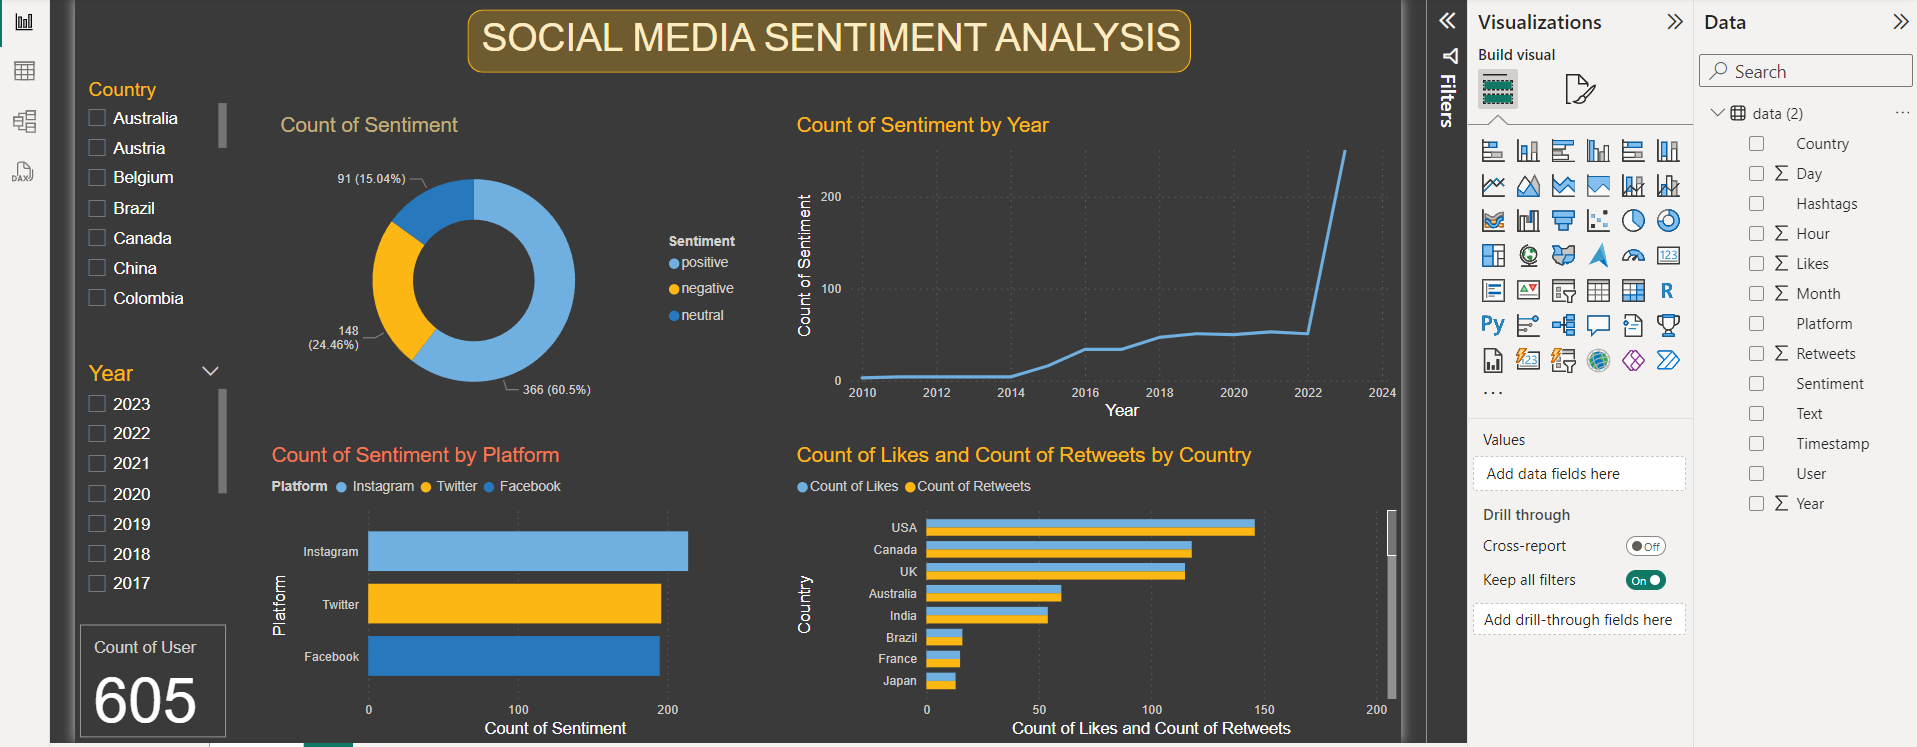

The dashboard page shown, as its layout file describes it:
{"tool":"powerbi","page":{"name":"Page 1","canvas":[1280,720],"ordinal":0},"visuals":[{"type":"textbox","box":[387.6,13.5,698.2,59.9],"z":0},{"type":"shape","box":[379.1,12.2,698.2,61.1],"z":1000},{"type":"donutChart","title":"Count of Sentiment","fields":{"Category":["data (2).Sentiment"],"Y":["CountNonNull(data (2).Sentiment)"]},"box":[193.2,112.5,467.1,300.8],"z":2000},{"type":"lineChart","fields":{"Category":["data (2).Year"],"Y":["CountNonNull(data (2).Sentiment)"]},"box":[690.9,112.5,589.4,300.8],"z":3000},{"type":"barChart","title":"Count of Sentiment by Platform","fields":{"Category":["data (2).Platform"],"Series":["data (2).Platform"],"Y":["CountNonNull(data (2).Sentiment)"]},"box":[184.6,430.7,475.3,288.3],"z":4000},{"type":"clusteredBarChart","fields":{"Category":["data (2).Country"],"Y":["CountNonNull(data (2).Likes)","CountNonNull(data (2).Retweets)"]},"box":[691.3,430.7,588.7,288.3],"z":5000},{"type":"slicer","fields":{"Values":["data (2).Country"]},"box":[0,73.4,151.6,238.5],"z":6000},{"type":"slicer","fields":{"Values":["data (2).Year"]},"box":[0,346.1,151.6,239.7],"z":7000},{"type":"cardVisual","fields":{"Data":["CountNonNull(data (2).User)"]},"box":[0,600.4,151.6,119.8],"z":8000}]}

Visuals, with their boxes on the page's 1280x720 design canvas (x1, y1, x2, y2). These are canvas units, not pixel positions in the 1917x747 screenshot, which may show the page scaled, cropped or inside an application window:
textbox: left=388, top=14, right=1086, bottom=73
shape: left=379, top=12, right=1077, bottom=73
"Count of Sentiment" donutChart: left=193, top=112, right=660, bottom=413
lineChart - data (2).Year x CountNonNull(data (2).Sentiment): left=691, top=112, right=1280, bottom=413
"Count of Sentiment by Platform" barChart: left=185, top=431, right=660, bottom=719
clusteredBarChart - data (2).Country x CountNonNull(data (2).Likes): left=691, top=431, right=1280, bottom=719
slicer - data (2).Country: left=0, top=73, right=152, bottom=312
slicer - data (2).Year: left=0, top=346, right=152, bottom=586
cardVisual - CountNonNull(data (2).User): left=0, top=600, right=152, bottom=720
